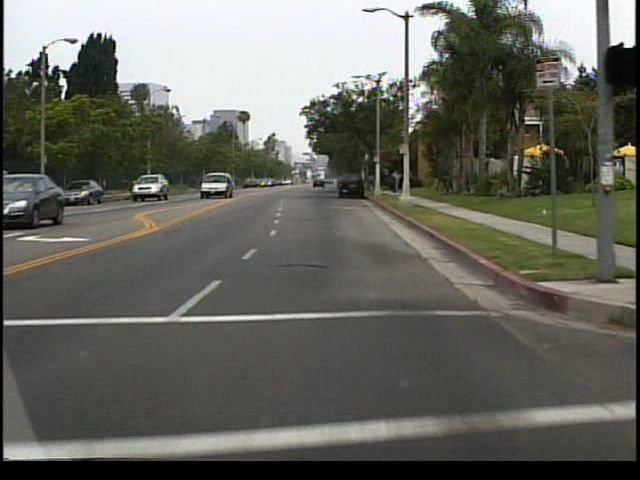person: (392, 170, 405, 196), (389, 173, 396, 193)
